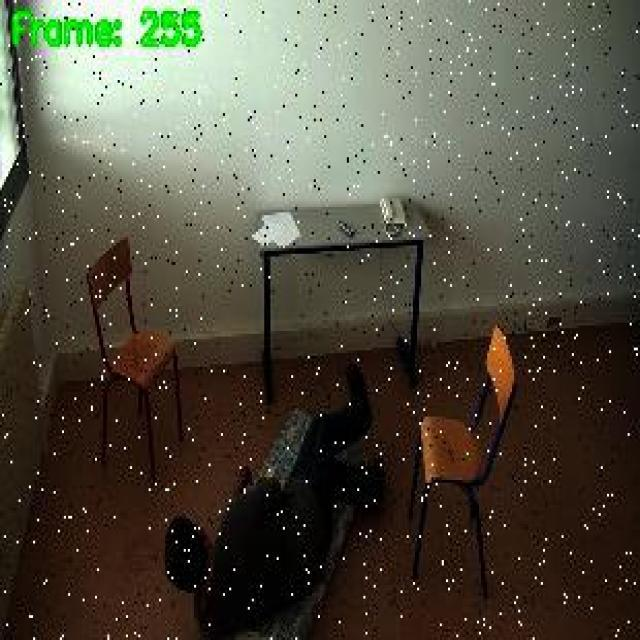fall: (159, 362, 390, 638)
